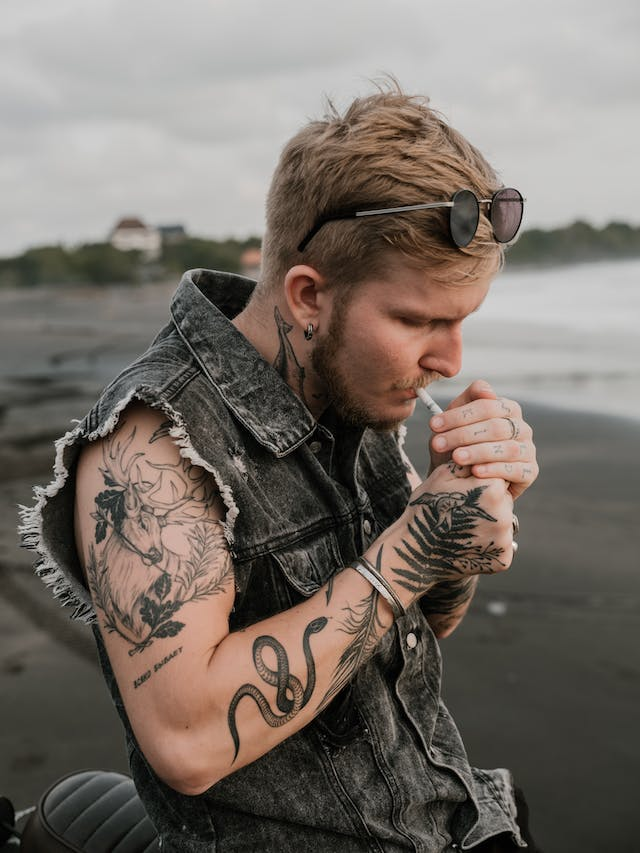Cigarette: (414, 387, 446, 422)
